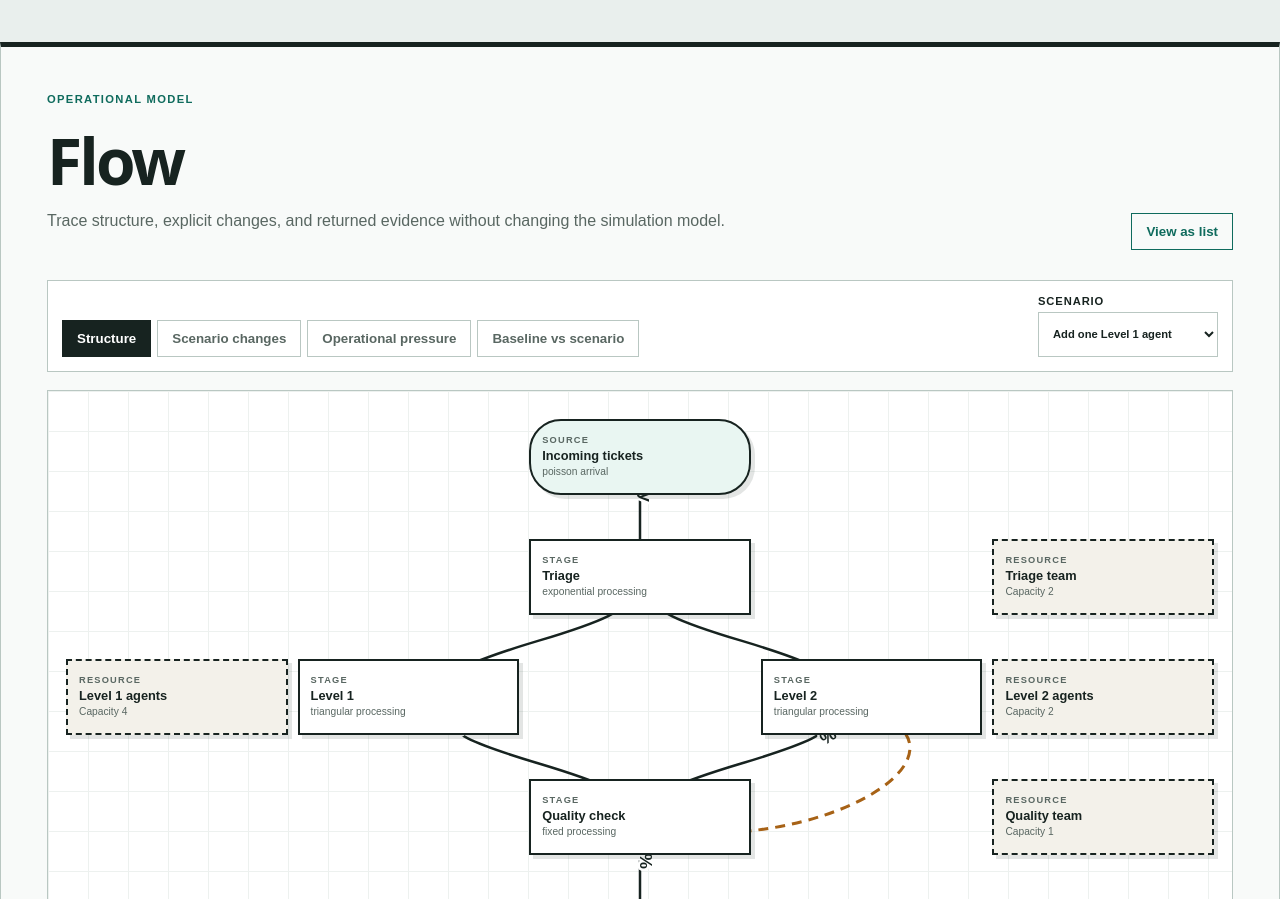
workflow visualization › renders supplied baseline, scenario, and resource delta evidence
Click the button "Baseline vs scenario" at (558, 338), box [477,320,639,357]
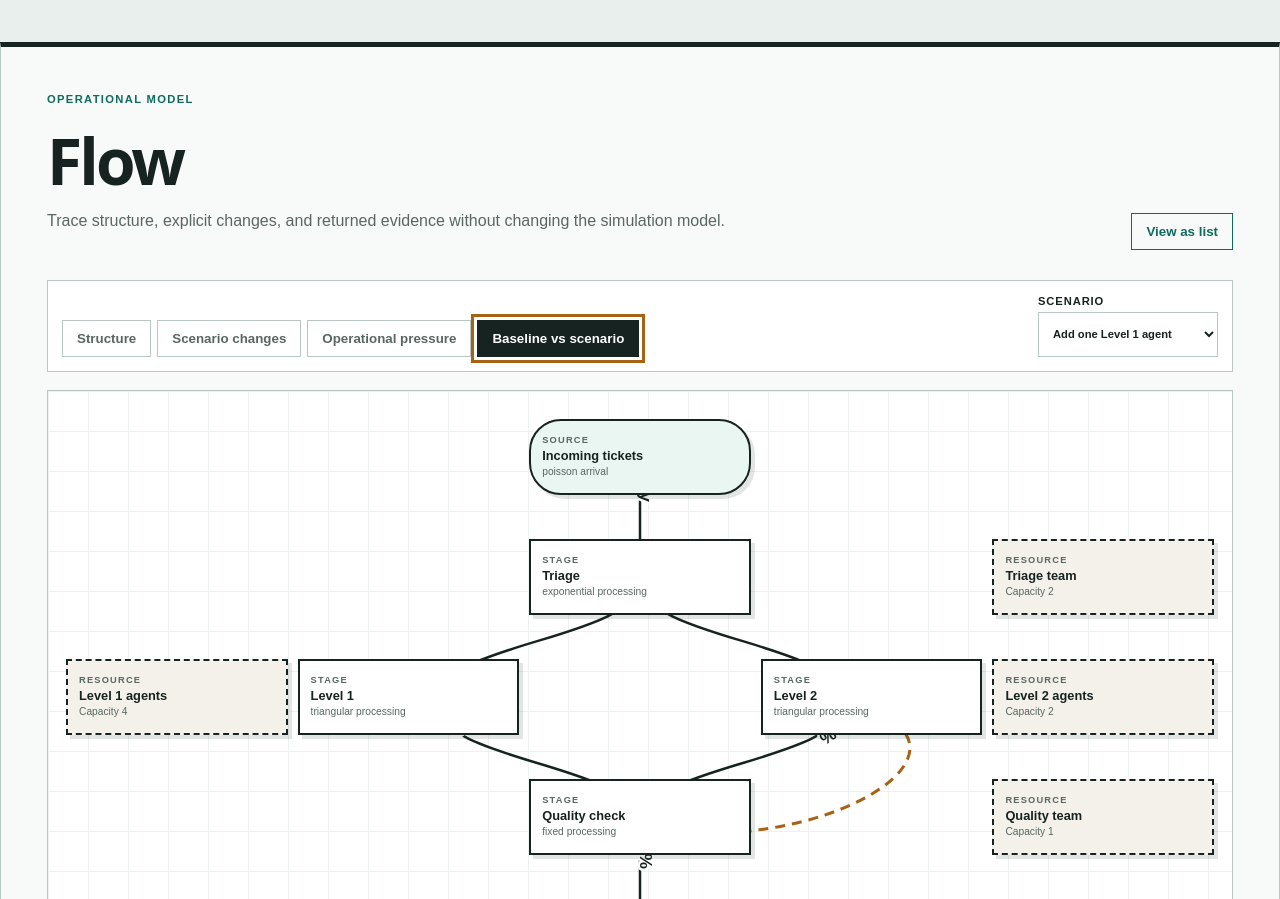
Click the button with aria-label "Level 1 agents, resource" at (177, 697), box [66,659,288,735]
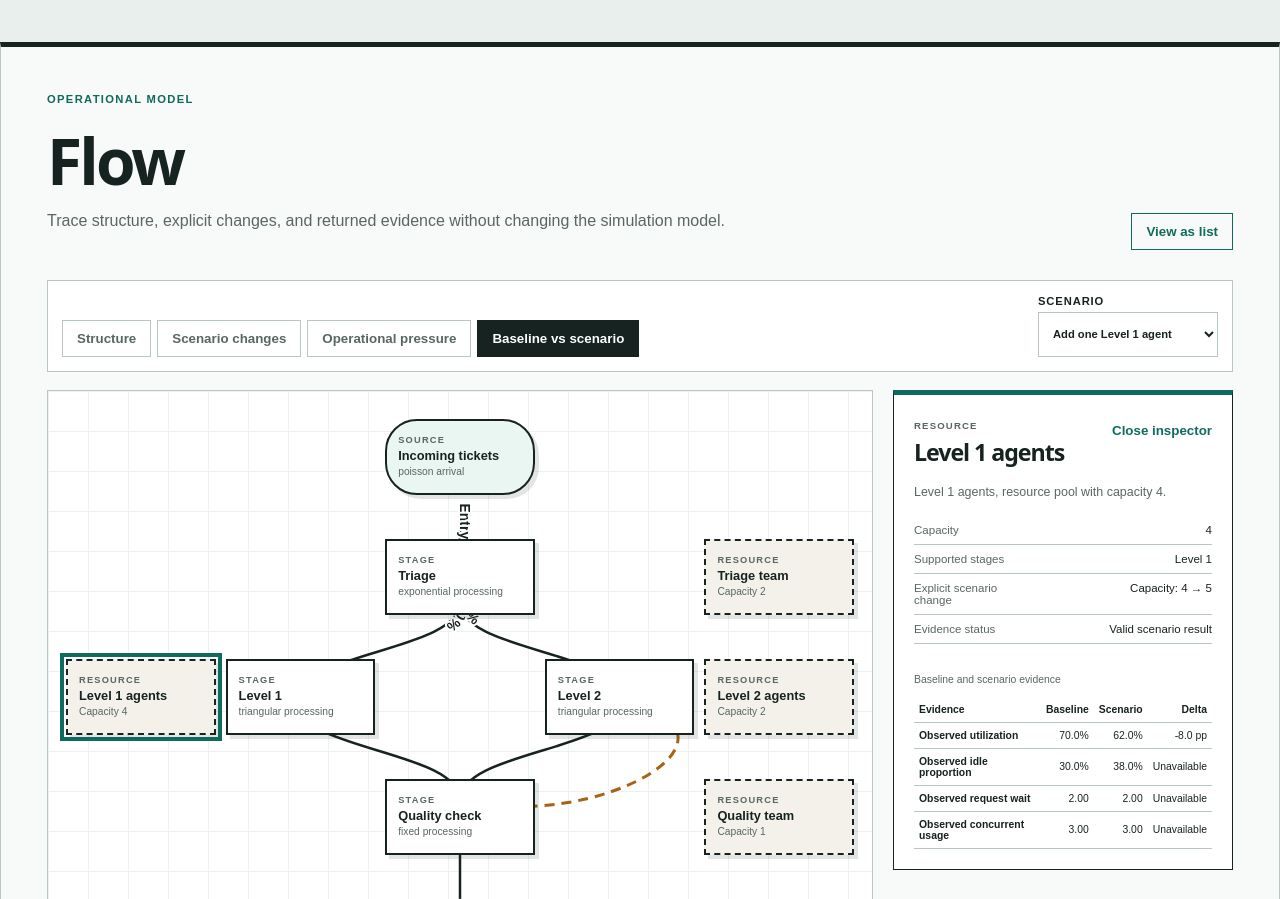
Expected: the element named "Level 1 agents evidence" shows "70.0%", [1059,730,1089,741]
Expected: the element named "Level 1 agents evidence" shows "62.0%", [1113,730,1143,741]
Expected: the element named "Level 1 agents evidence" shows "-8.0 pp", [1175,730,1207,741]
